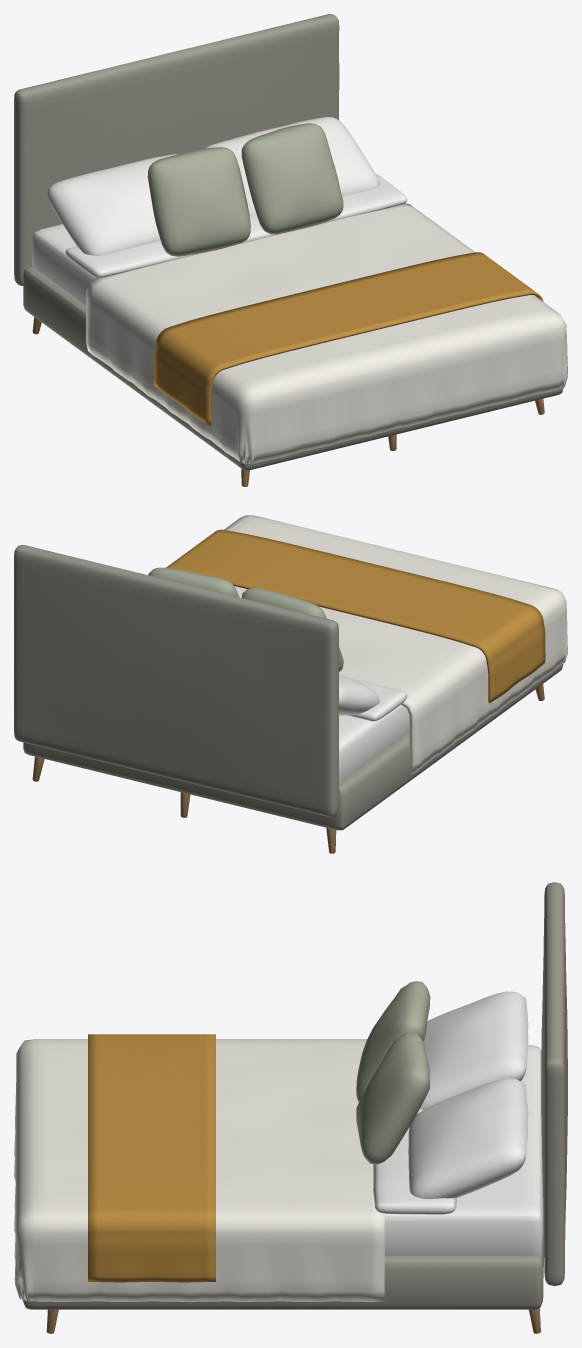
File: cama_tapizada_160.glb
3 views of the same model, one above another, from view 1: azimuth 30°, elevation 25°; view 2: azimuth 150°, elevation 25°; view 3: azimuth 270°, elevation 25° (orthographic). The views are drawn at different scales.
Visible parts, largest first — view 1: cama_tapizada_160; view 2: cama_tapizada_160; view 3: cama_tapizada_160.
Boxes of the visible parts, x1=… form: cama_tapizada_160: x1=14, y1=14, x2=567, y2=486; cama_tapizada_160: x1=14, y1=515, x2=567, y2=853; cama_tapizada_160: x1=14, y1=882, x2=567, y2=1333.
Size of the model in its own units: 1.78 by 1.21 by 2.17.
6 materials, 6 textured.
